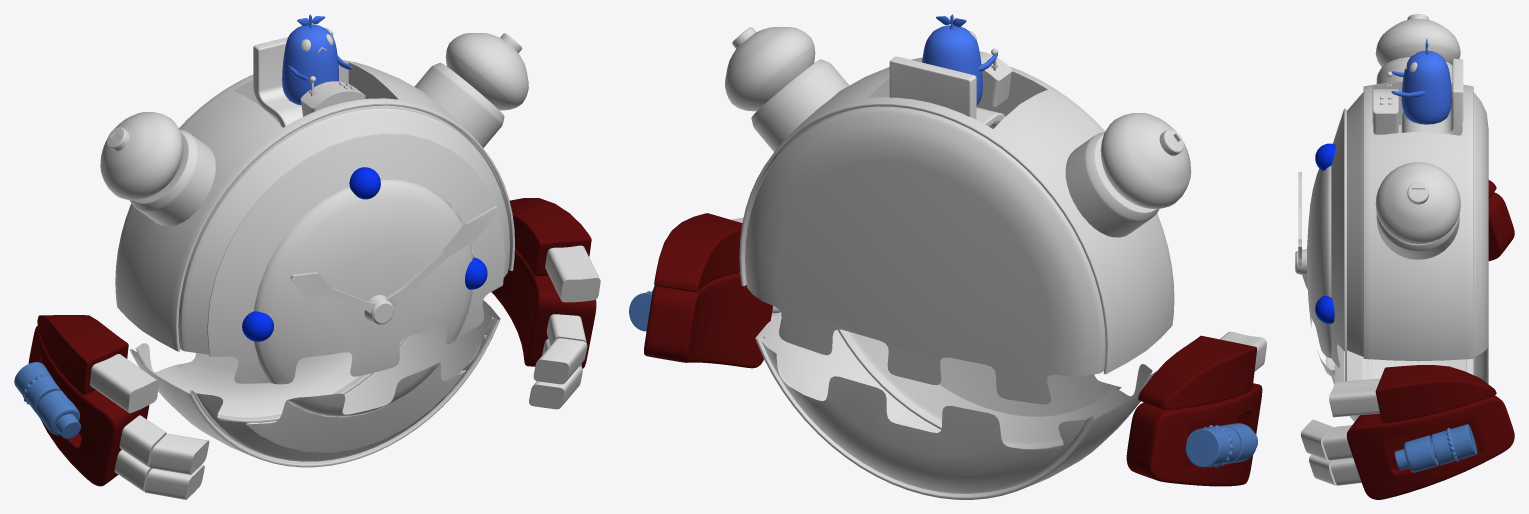
File: papul.FBX
3 views of the same model, side by side, from view 1: azimuth 30°, elevation 25°; view 2: azimuth 150°, elevation 25°; view 3: azimuth 270°, elevation 25° (orthographic). The views are drawn at different scales.
Visible parts, largest first — view 1: 4, 2, 3, Object00921321, Object010321321, 6, 5, Cylinder00221331, Object00821321, Object00632131, Line00221313, Cylinder00521321 (+8 smaller); view 2: 4, 5, 6, Object010321321, Cylinder00221331, Object00921321, 3, Line0012131, Line00221313, Cylinder00521321, 11, Object01121321 (+1 smaller); view 3: 4, 5, Object010321321, Object00921321, 3, 2, Line00221313, Object00632131, Cylinder00412331, Cylinder00221331, Object00521321, Line0012131 (+6 smaller).
Part boxes in pixels (<box>): 4: <box>115,60,514,467</box>; 2: <box>254,179,473,417</box>; 3: <box>207,133,505,452</box>; Object00921321: <box>180,108,509,461</box>; Object010321321: <box>100,33,528,200</box>; 6: <box>28,315,149,486</box>; 5: <box>473,198,596,368</box>; Cylinder00221331: <box>129,62,504,226</box>; Object00821321: <box>114,415,209,499</box>; Object00632131: <box>529,314,587,409</box>; Line00221313: <box>282,14,352,105</box>; Cylinder00521321: <box>14,362,80,438</box>; 4: <box>739,57,1174,499</box>; 5: <box>644,213,772,368</box>; 6: <box>1126,335,1262,486</box>; Object010321321: <box>725,27,1191,208</box>; Cylinder00221331: <box>751,59,1159,237</box>; Object00921321: <box>847,331,1152,445</box>; 3: <box>939,357,1121,416</box>; Line0012131: <box>889,56,1005,128</box>; Line00221313: <box>922,14,997,105</box>; Cylinder00521321: <box>1185,423,1257,467</box>; 11: <box>979,51,1011,106</box>; Object01121321: <box>732,27,1183,155</box>; 4: <box>1363,81,1488,383</box>; 5: <box>1346,365,1514,499</box>; Object010321321: <box>1375,19,1460,244</box>; Object00921321: <box>1347,92,1364,421</box>; 3: <box>1331,108,1346,384</box>; 2: <box>1307,165,1334,376</box>; Line00221313: <box>1391,38,1451,124</box>; Object00632131: <box>1300,419,1361,485</box>; Cylinder00412331: <box>1394,424,1477,472</box>; Cylinder00221331: <box>1376,57,1459,259</box>; Object00521321: <box>1329,378,1380,417</box>; Line0012131: <box>1401,58,1463,135</box>.
Size of the model in its own units: 59.9 by 45.11 by 23.23.
